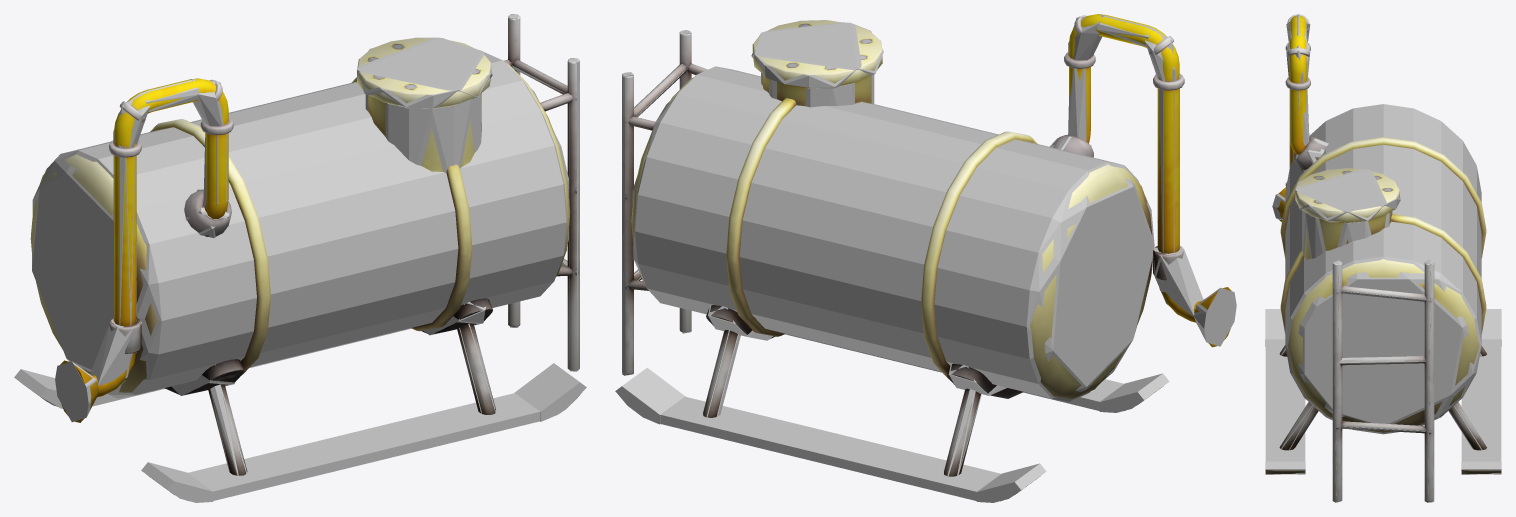
The model's file is SM_GasTank02.fbx.
The picture shows the model from 3 angles, left to right: view 1: azimuth 30°, elevation 25°; view 2: azimuth 150°, elevation 25°; view 3: azimuth 270°, elevation 25°; orthographic projection. The views are drawn at different scales.
Visible parts, largest first — view 1: SM_GasTank02_ConvexHulls, SM_GasTank02; view 2: SM_GasTank02_ConvexHulls, SM_GasTank02; view 3: SM_GasTank02_ConvexHulls, SM_GasTank02.
Part boxes in pixels (x1=…): SM_GasTank02_ConvexHulls: x1=14, y1=14, x2=586, y2=502; SM_GasTank02: x1=23, y1=15, x2=580, y2=500; SM_GasTank02_ConvexHulls: x1=615, y1=14, x2=1236, y2=502; SM_GasTank02: x1=622, y1=14, x2=1231, y2=501; SM_GasTank02_ConvexHulls: x1=1265, y1=14, x2=1501, y2=502; SM_GasTank02: x1=1266, y1=14, x2=1500, y2=501.
Bounding box in the file's own units: 421 × 210 × 308.
2 materials, 1 textured.
